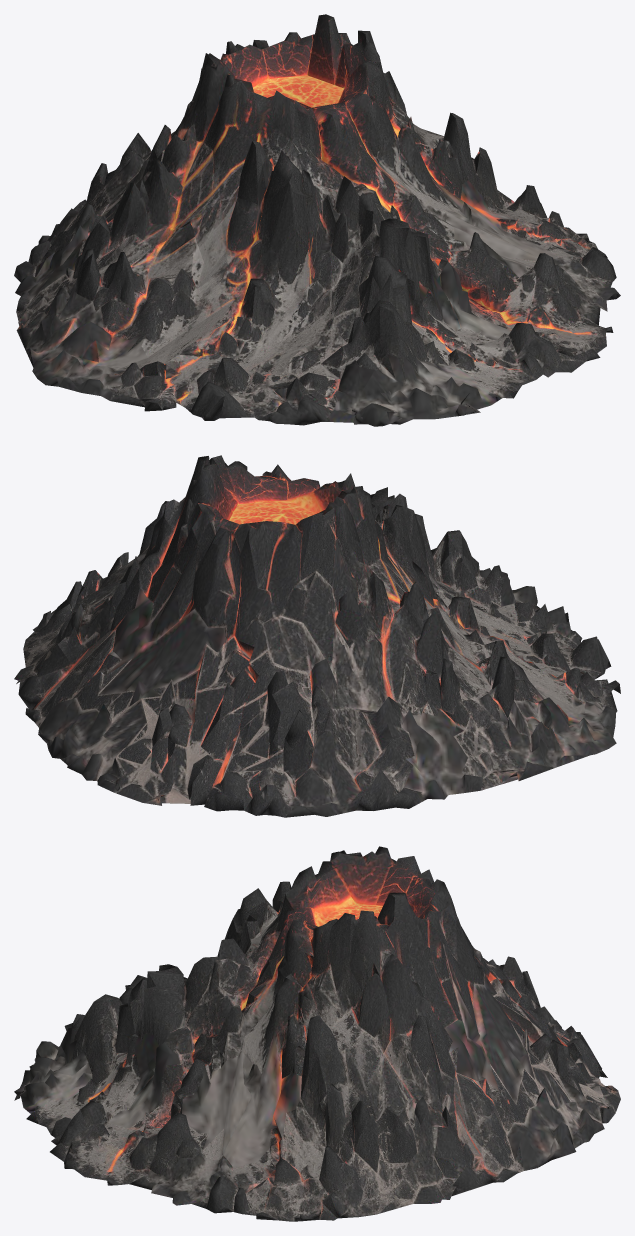
Rendered from volcano.glb.
3 views of the same model, one above another, from view 1: azimuth 30°, elevation 25°; view 2: azimuth 150°, elevation 25°; view 3: azimuth 270°, elevation 25° (orthographic). The views are drawn at different scales.
Parts seen in each view (by area): view 1: volcano; view 2: volcano; view 3: volcano.
Boxes of the visible parts, x1=… form: volcano: x1=14, y1=14, x2=620, y2=426; volcano: x1=14, y1=455, x2=620, y2=817; volcano: x1=14, y1=846, x2=620, y2=1221.
Size of the model in its own units: 189 by 77.4 by 186.
Materials: 1 (1 with a texture image).
